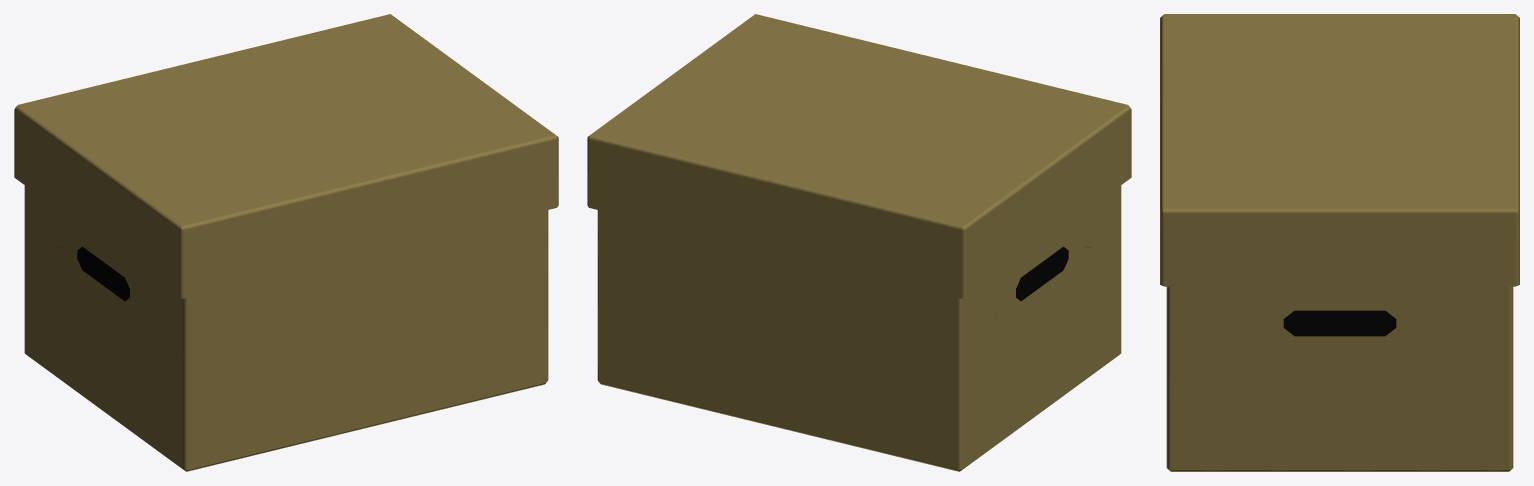
The model's file is Box_nib_v01 1.fbx.
3 views of the same model, side by side, from view 1: azimuth 30°, elevation 25°; view 2: azimuth 150°, elevation 25°; view 3: azimuth 270°, elevation 25° (orthographic). The views are drawn at different scales.
Parts seen in each view (by area): view 1: Cube, Plane; view 2: Cube, Plane; view 3: Cube, Plane.
Boxes of the visible parts, <box> form: Cube: <box>14,14,558,471</box>; Plane: <box>55,246,129,301</box>; Cube: <box>587,14,1131,471</box>; Plane: <box>1016,246,1090,301</box>; Cube: <box>1160,14,1519,471</box>; Plane: <box>1283,310,1396,336</box>.
Bounding box in the file's own units: 42.86 × 27.04 × 32.97.
